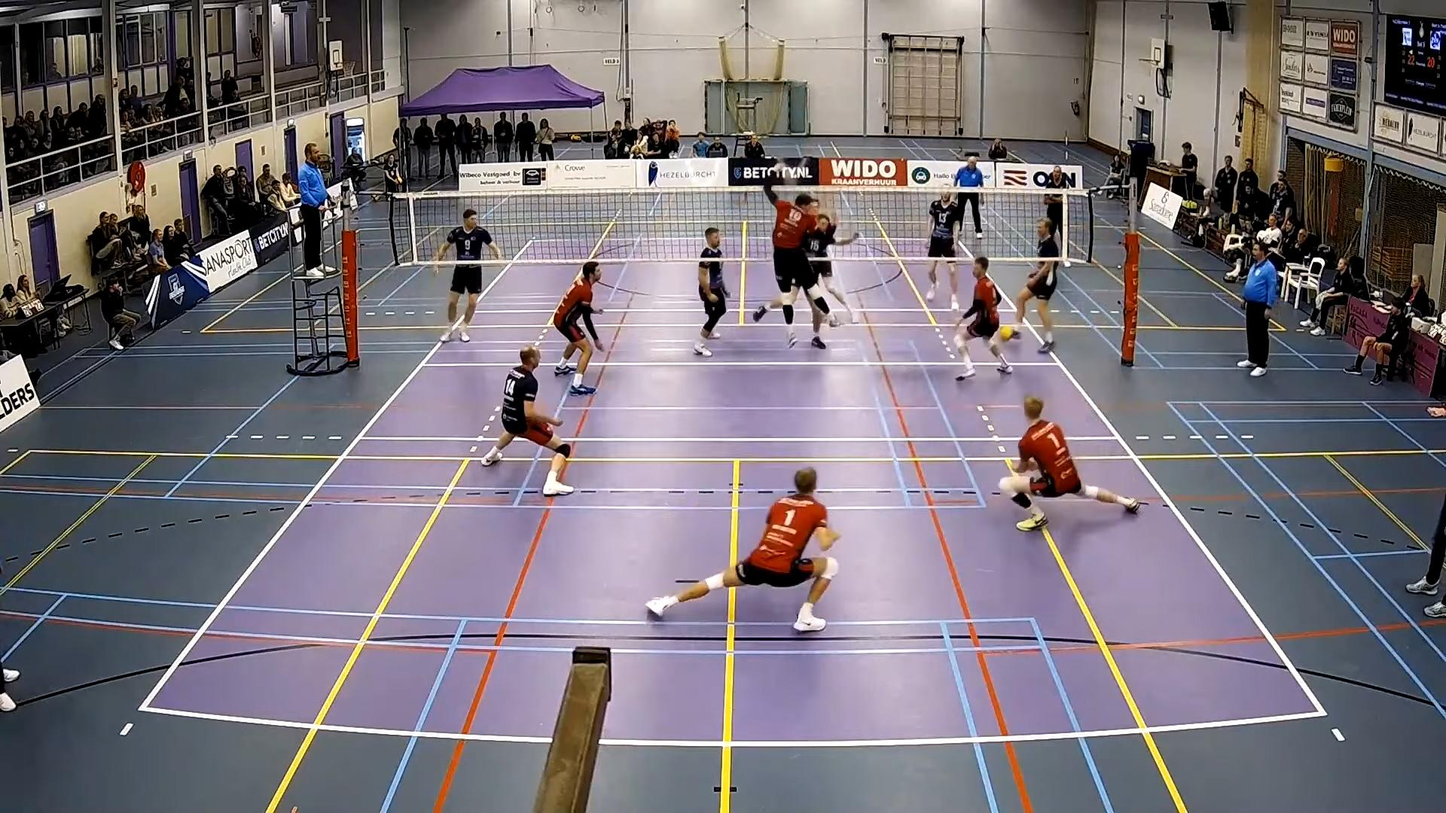Dig: (995, 396, 1143, 537)
Player: (646, 468, 837, 631), (480, 346, 573, 496), (752, 177, 828, 346), (434, 209, 500, 342), (953, 257, 1012, 380), (553, 260, 602, 395), (1014, 219, 1060, 352), (805, 214, 859, 321), (693, 227, 728, 356), (926, 192, 961, 311)
ball: (996, 326, 1025, 343)
